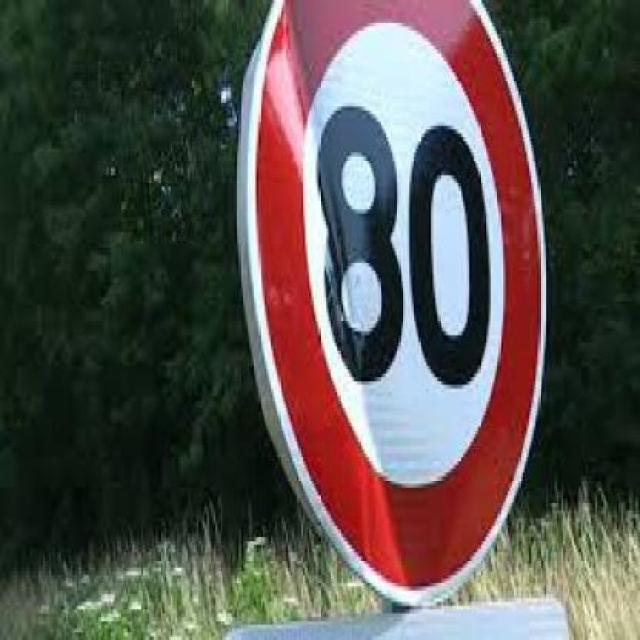forb_speed_over_80: (286, 46, 515, 480)
